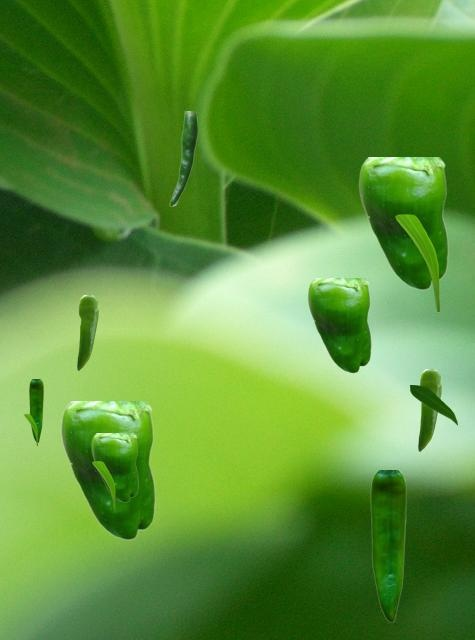green_chili: (60, 401, 154, 539), (358, 157, 447, 289), (307, 278, 370, 372), (370, 470, 405, 621), (91, 433, 137, 501), (169, 111, 196, 205), (418, 369, 440, 450), (77, 295, 97, 369), (29, 379, 42, 441)
